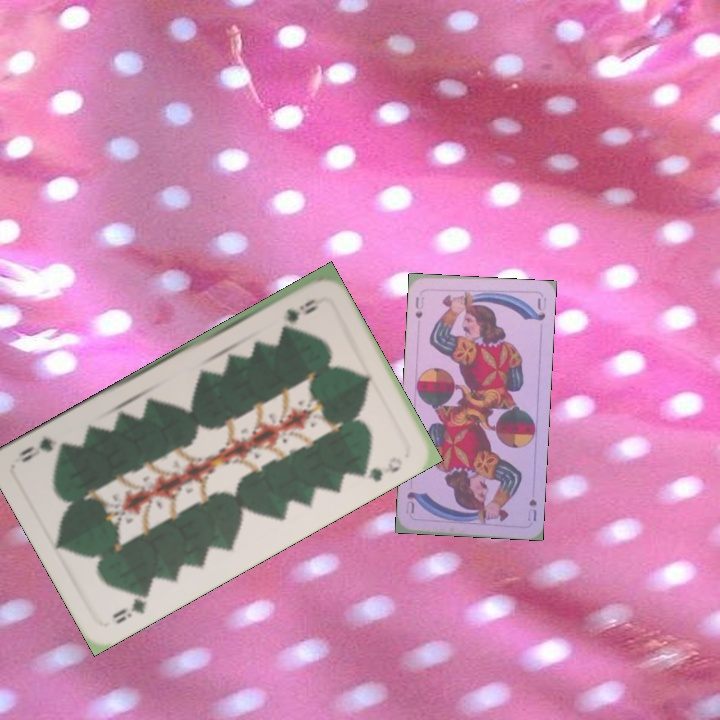G9: (108, 585, 153, 627), (282, 294, 319, 324)
SU: (523, 495, 539, 524), (411, 293, 427, 321)
